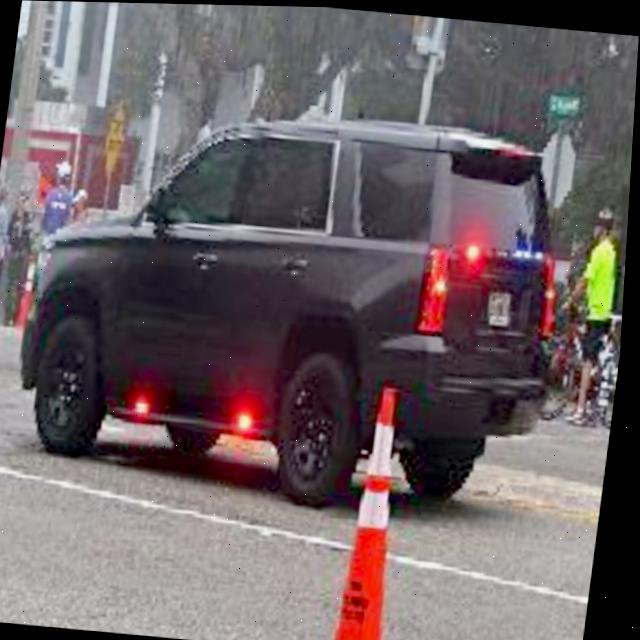emergency: (13, 85, 586, 503)
